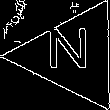N_S: (49, 30, 96, 81)
